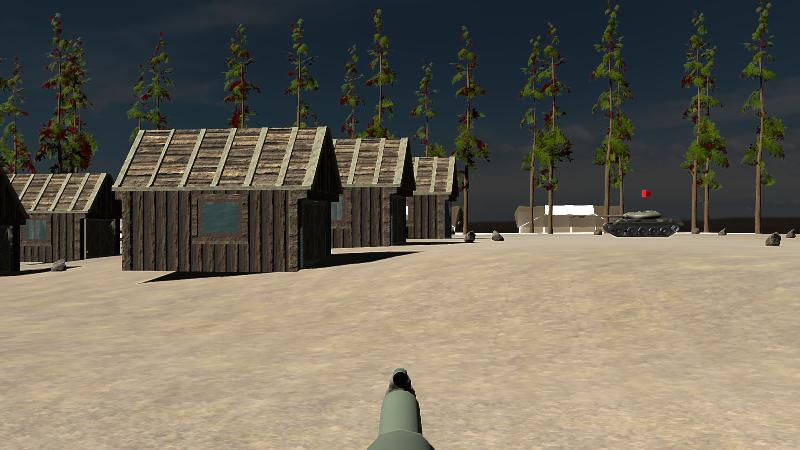House: (111, 126, 340, 276), (9, 171, 120, 261), (328, 137, 414, 250), (409, 156, 458, 239), (0, 166, 26, 276)
Tank: (593, 209, 681, 238)
